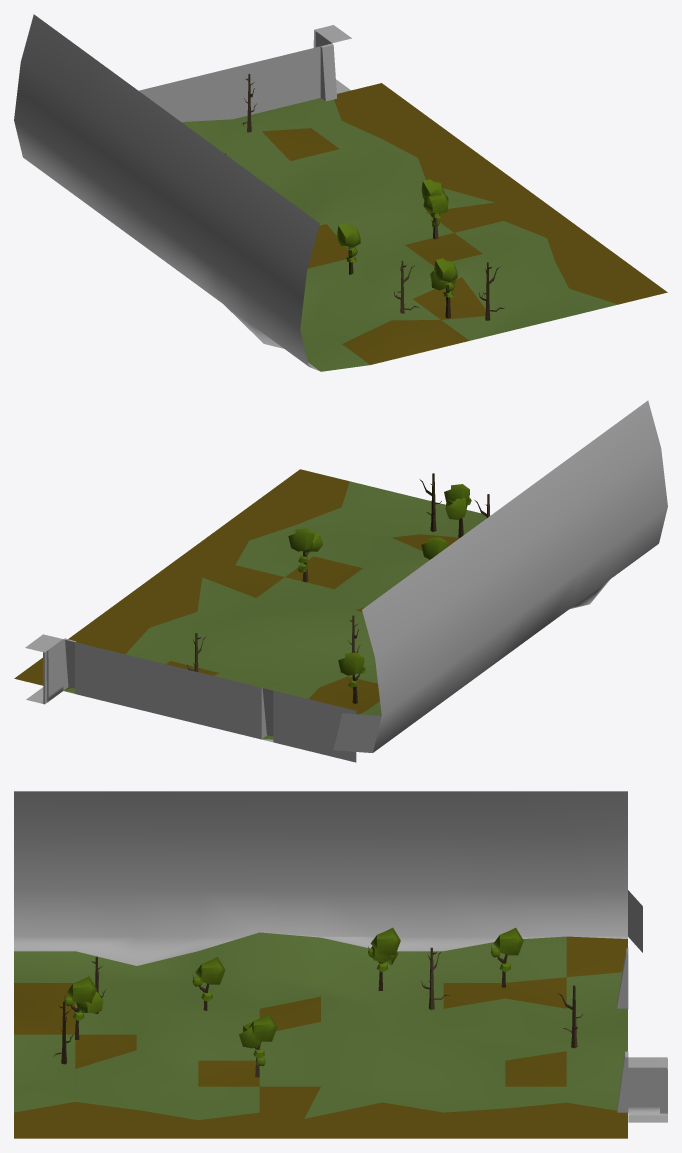
File: Inicio.fbx
3 views of the same model, one above another, from view 1: azimuth 30°, elevation 25°; view 2: azimuth 150°, elevation 25°; view 3: azimuth 270°, elevation 25° (orthographic). The views are drawn at different scales.
Parts seen in each view (by area): view 1: pPlane12, pPlane13, pPlane11; view 2: pPlane12, pPlane13, pPlane11; view 3: pPlane12, pPlane11, pPlane13, pCube17, pCube13, pCube21, pCube9, pCube7.
Part boxes in pixels (x1,y1,x2,y2): pPlane12: [14, 14, 667, 371]; pPlane13: [139, 43, 336, 122]; pPlane11: [313, 25, 351, 93]; pPlane12: [14, 400, 667, 752]; pPlane13: [63, 638, 356, 762]; pPlane11: [25, 634, 63, 704]; pPlane12: [14, 791, 642, 1138]; pPlane11: [628, 1057, 667, 1122]; pPlane13: [617, 948, 628, 1112]; pCube17: [370, 927, 400, 955]; pCube13: [493, 927, 523, 955]; pCube21: [195, 957, 225, 984]; pCube9: [67, 976, 96, 1003]; pCube7: [248, 1014, 277, 1041].
Size of the model in its own units: 371 by 156 by 533.
